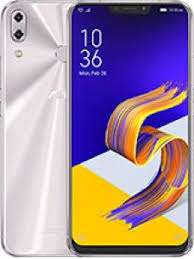asus: (1, 1, 194, 259), (64, 1, 194, 257)
